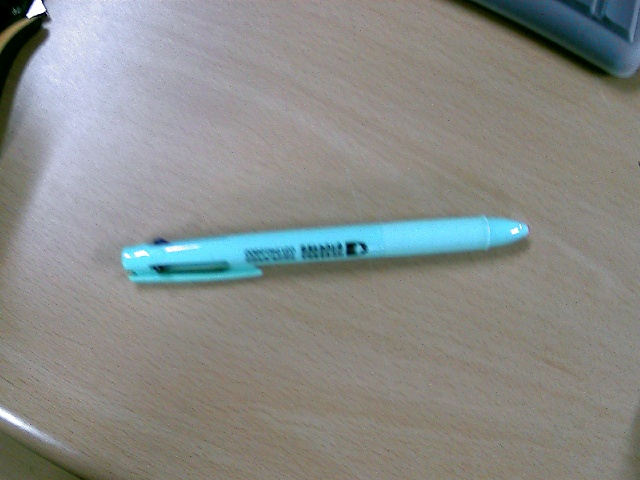pen: (117, 204, 540, 287)
